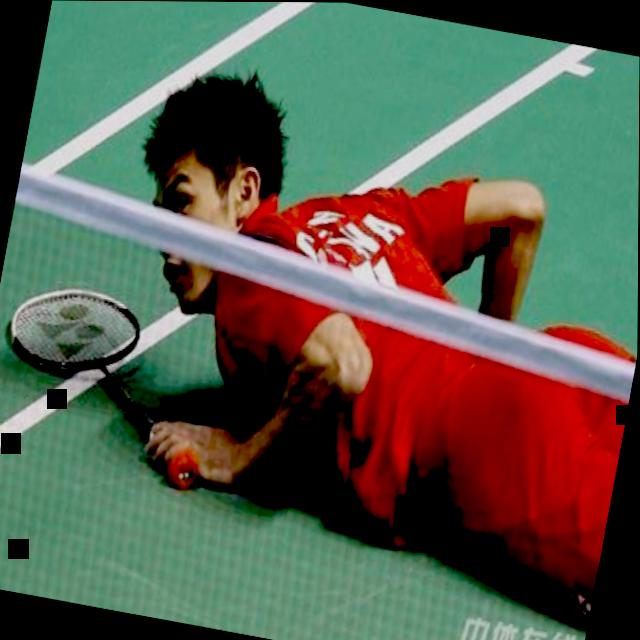Fall-Detected: (27, 0, 640, 640)
